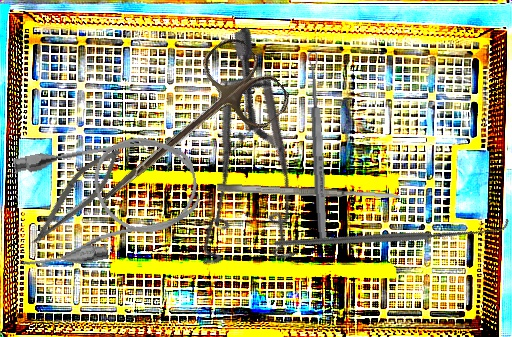Cannula: (2, 125, 208, 275)
Hook Surgical: (272, 129, 511, 336)
Iris Scissors: (72, 30, 296, 242)
Micro Scissor: (24, 138, 129, 258)
Spatula Surgical: (216, 182, 401, 202)
Speculum: (112, 25, 358, 296)
Surgical Spoon: (307, 51, 329, 241)
